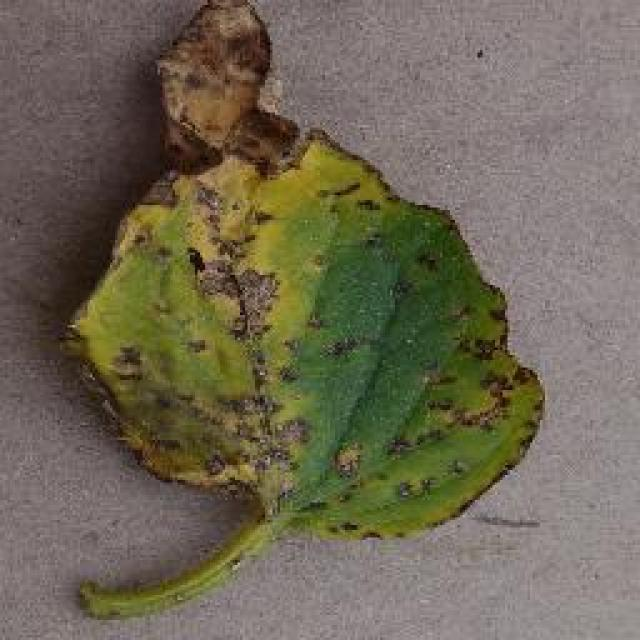Tomato bacterial spot leaf: (60, 16, 518, 592)
